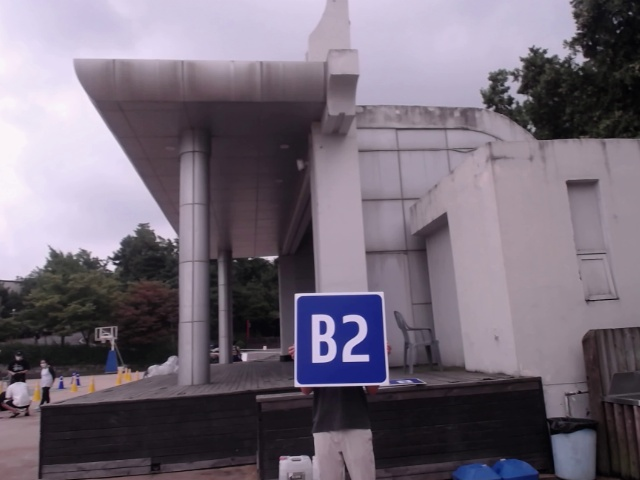delivery_b2: (292, 291, 388, 385)
